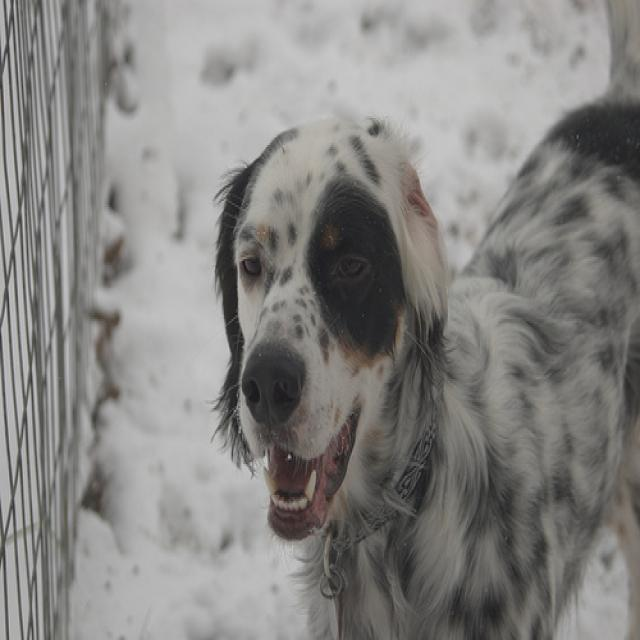dog-english_setter: (212, 72, 637, 636)
